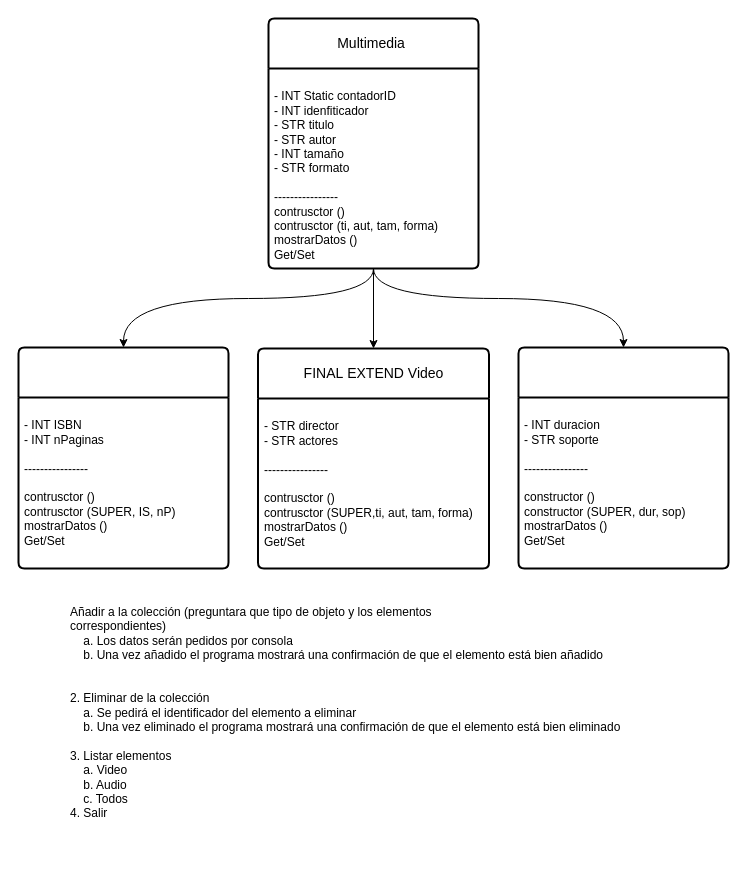
Image size: 746x875. Some labels were removed from this diagram. The box of each missing label's shape, as (x1, y1, x2, y2) in pixels:
FINAL EXTEND Audio: (517, 346, 729, 569)
FINAL EXTEND Libro: (17, 346, 229, 569)
